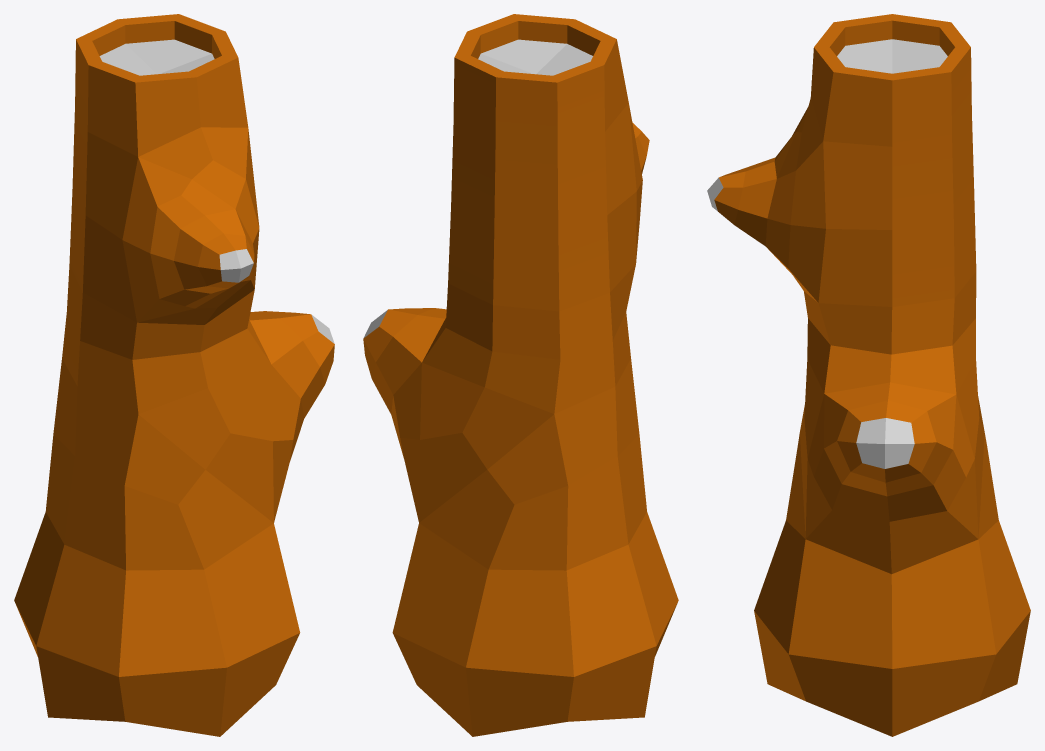
The model's file is Log02.fbx.
3 renders of one model, left to right at view 1: azimuth 30°, elevation 25°; view 2: azimuth 150°, elevation 25°; view 3: azimuth 270°, elevation 25°, orthographic.
Parts seen in each view (by area): view 1: Plane; view 2: Plane; view 3: Plane.
Boxes of the visible parts, x1,y1,x2,y2 form: Plane: (14,14,334,736); Plane: (363,14,678,736); Plane: (707,14,1030,736).
Size of the model in its own units: 58.76 by 129 by 57.15.
